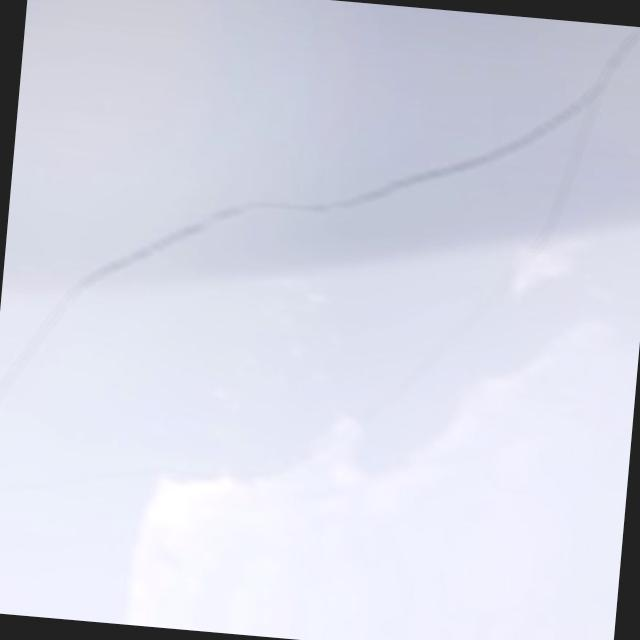crack: (106, 63, 559, 299)
